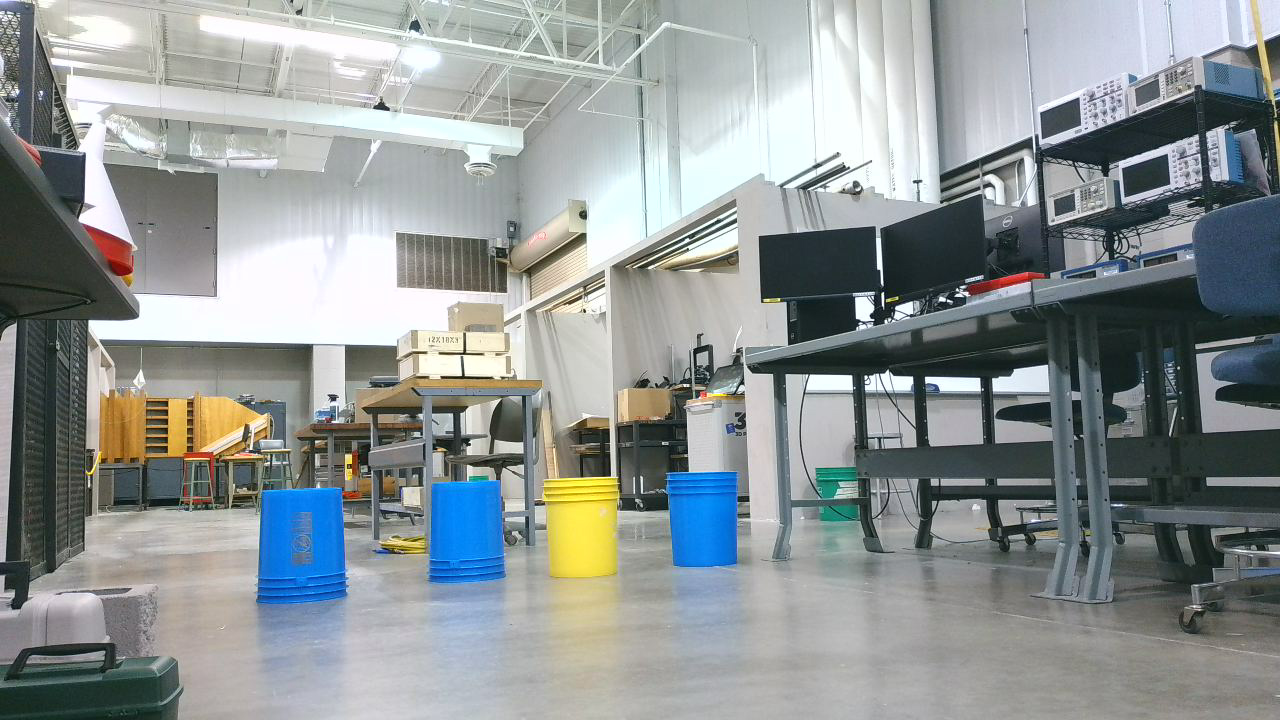blue_bucket: (257, 490, 359, 611), (428, 483, 513, 590), (667, 474, 748, 573)
yellow_bucket: (545, 480, 629, 587)
